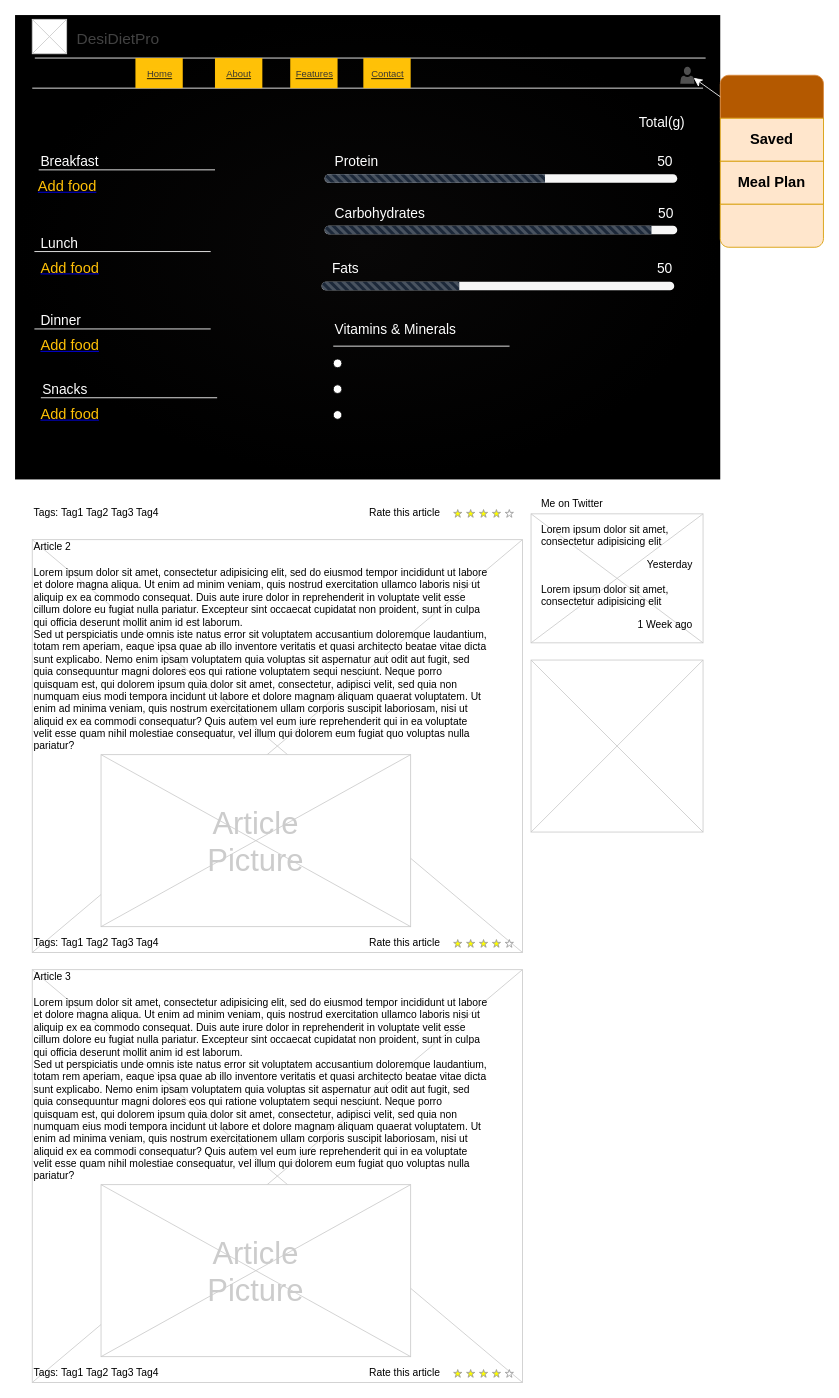
Some shapes in this 839 by 1398 pixel diagram are drawn without their labels. Each missing label, with the centre of its shape:
"Blog Logo" belongs at point 49,36.
"Login" belongs at point 771,96.
"Sign out" belongs at point 771,225.
"Tag Cloud" belongs at point 616,745.
